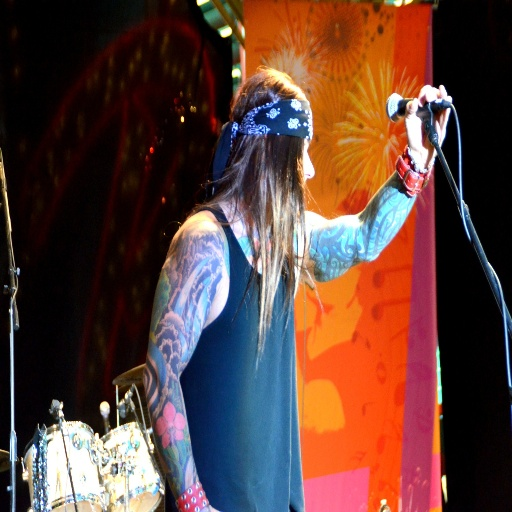hand: (408, 79, 450, 152)
